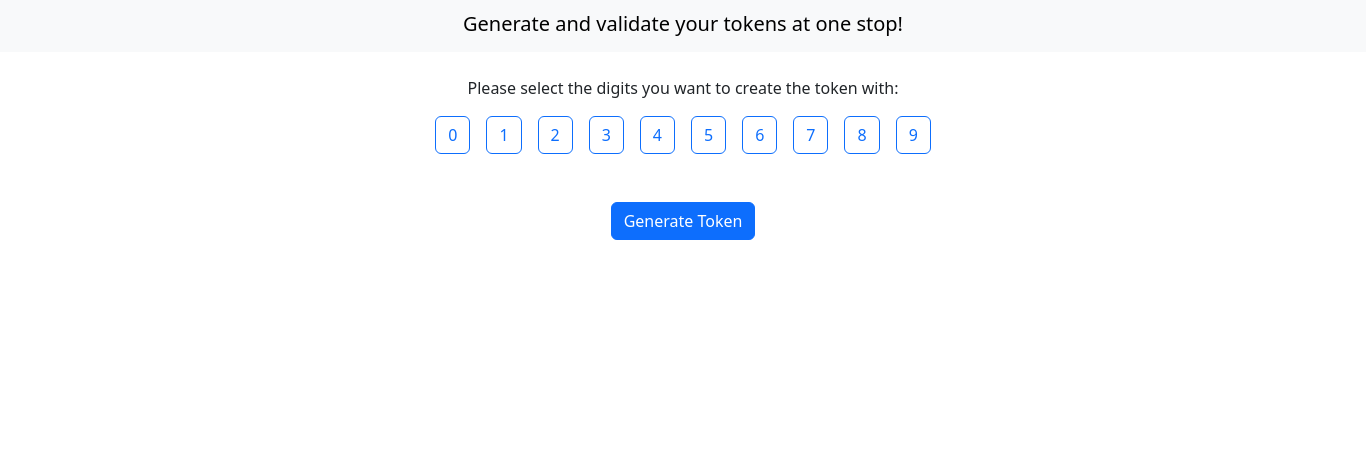
Scenario: CreateToken Component › handles digit selection and generation
Click the button "0" at point(453, 135), box [435,116,470,154]
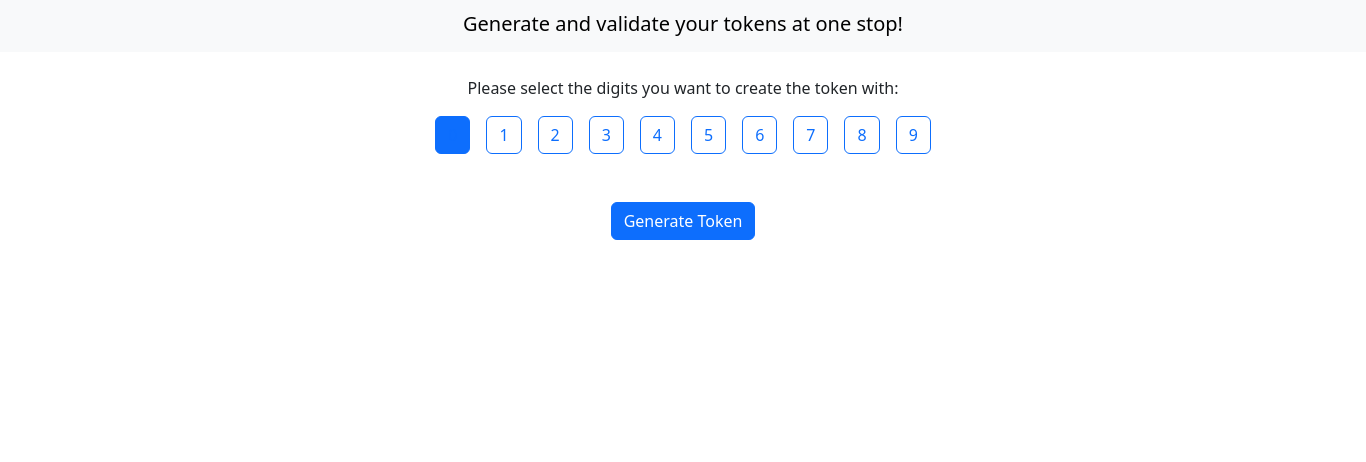
Click the button "3" at point(606, 135), box [589,116,624,154]
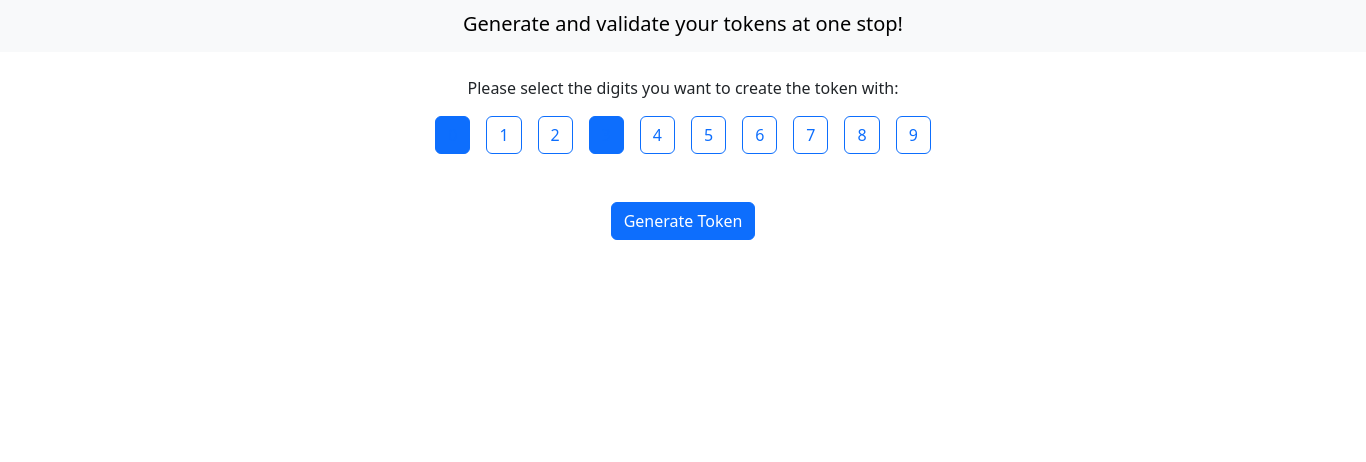
Click the button "Generate Token" at point(683, 221), box [611,202,755,240]
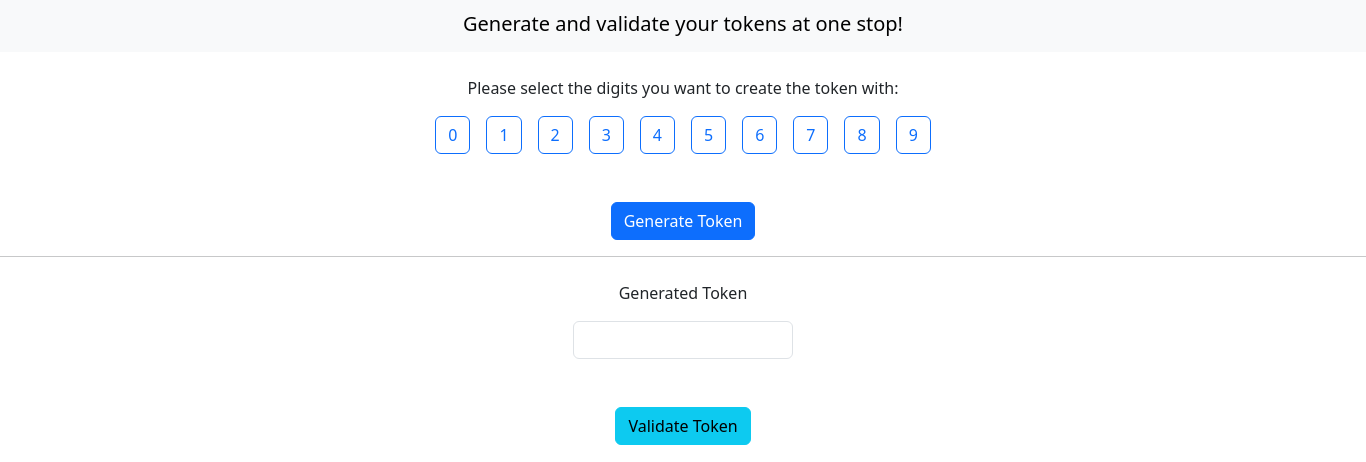
Check: the text "Generated Token" is shown, box [619,282,747,304]
